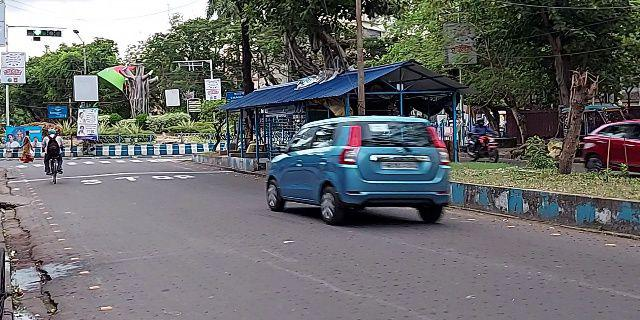Car: (258, 114, 462, 218)
Cycle: (44, 128, 72, 184)
